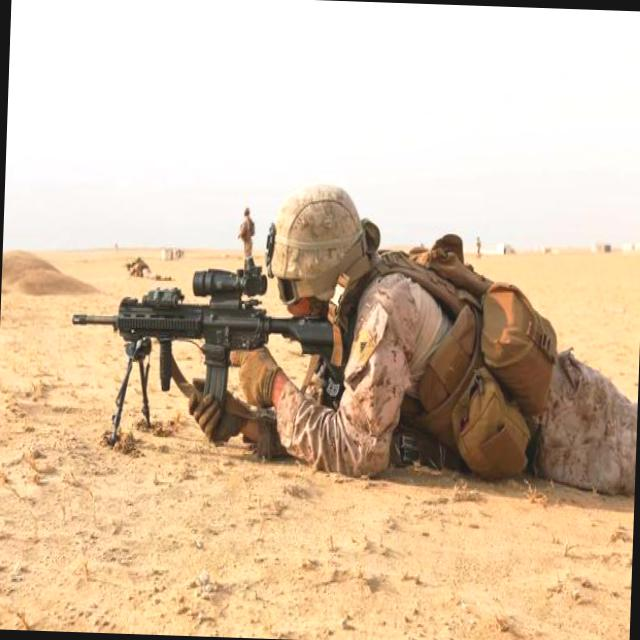long weapon: (64, 256, 276, 418)
